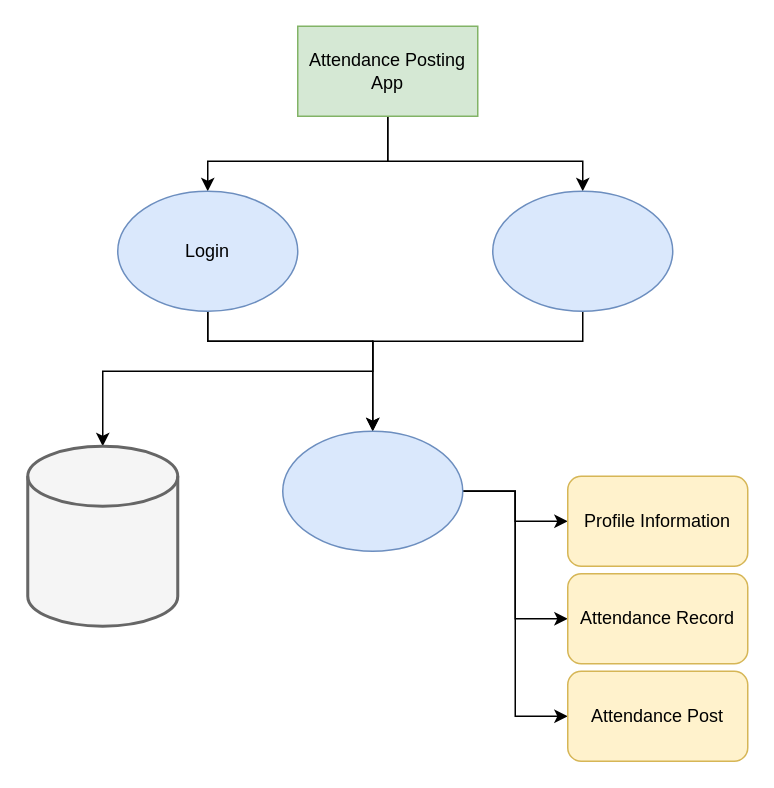
Some shapes in this 774 by 788 pixel diagram are drawn without their labels. Here are the shapes that lost their labels. From the top down, the centre of each, then its label:
At point 582,250: "Register".
At point 372,490: "Dashboard".
At point 102,535: "users & attendance records".
